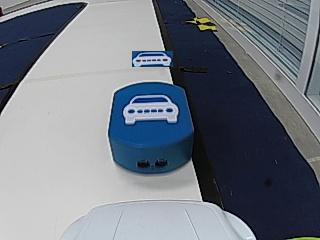safety: (122, 94, 182, 124)
